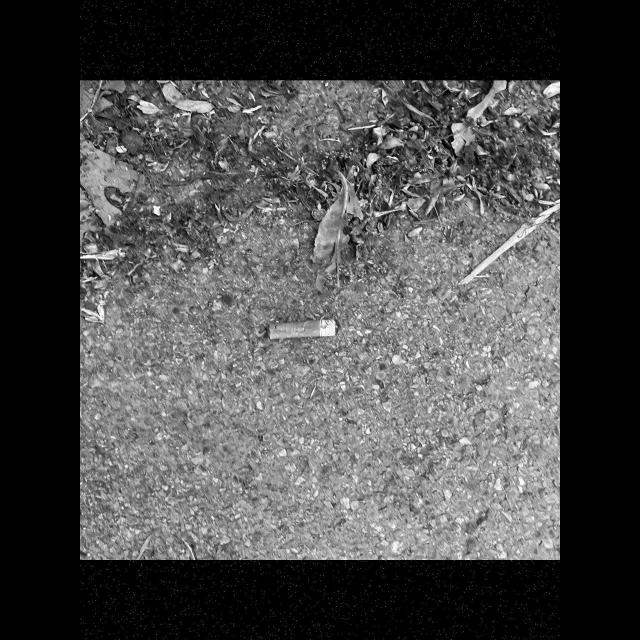cigarette: (268, 318, 340, 339)
